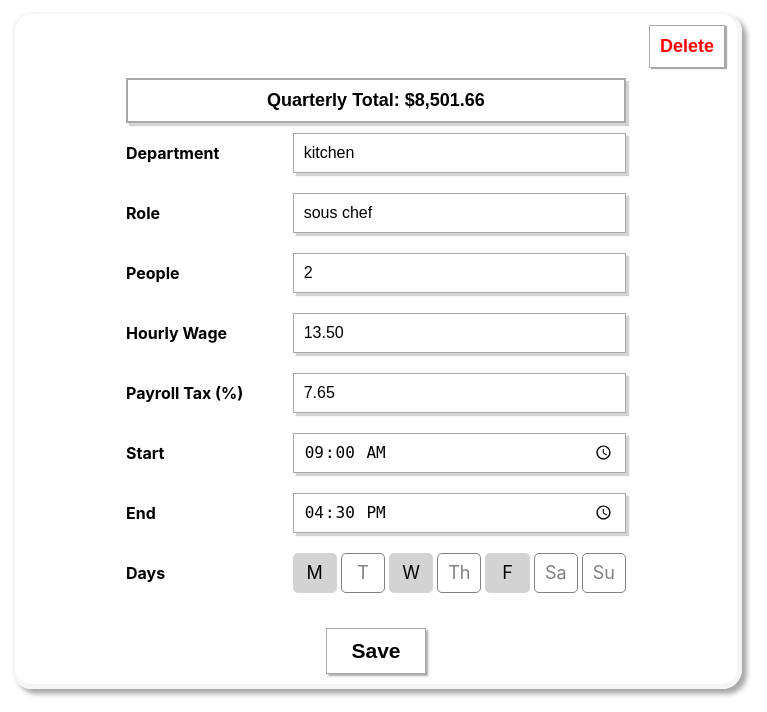
it: ShiftForm, wage › Renders error on blur if value is an empty string
The image size is (767, 712).
Clear the field with class "form-section__input_wage" at (459, 333), box [293, 313, 626, 353]
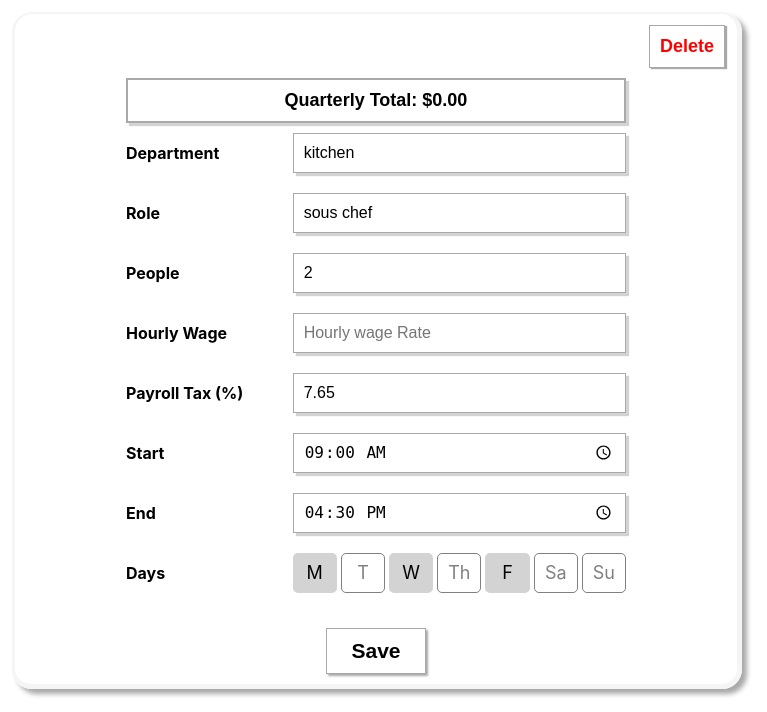
Leave the field with class "form-section__input_wage", box [293, 313, 626, 353]
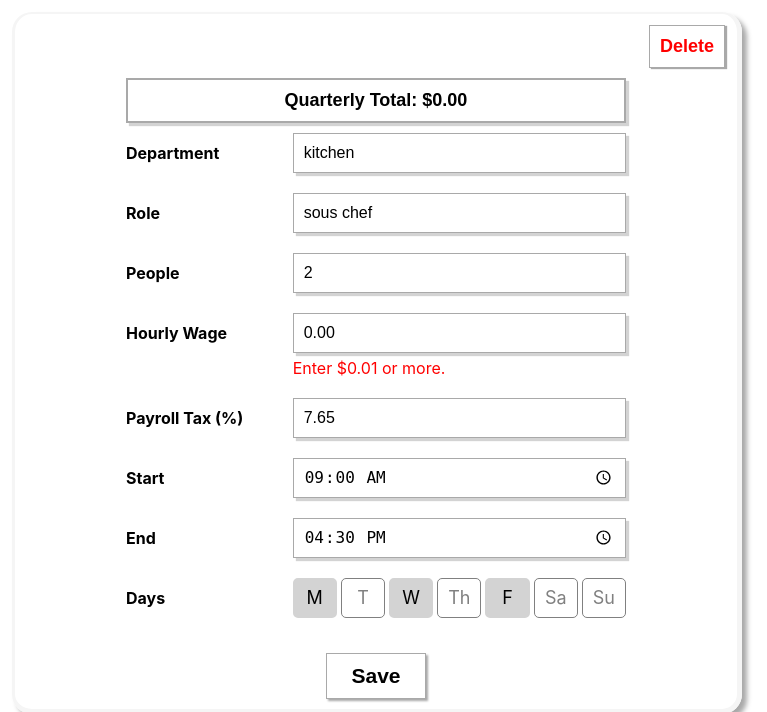
Now the number of elements with class "form-error" is 1, box [293, 358, 445, 378]
